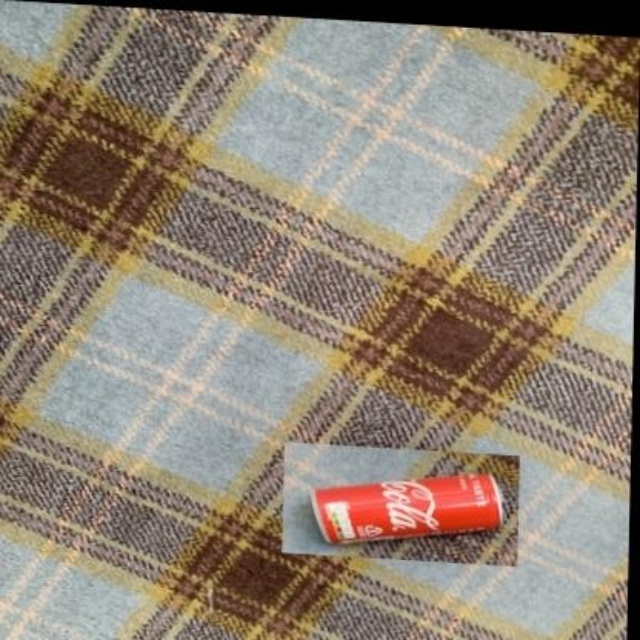trash: (312, 474, 502, 542)
